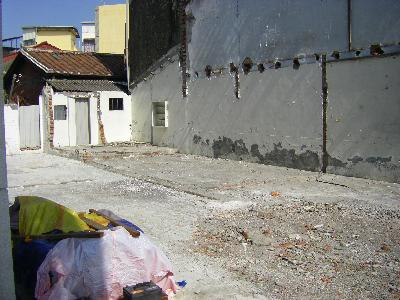plastic_bag: (14, 194, 183, 298)
